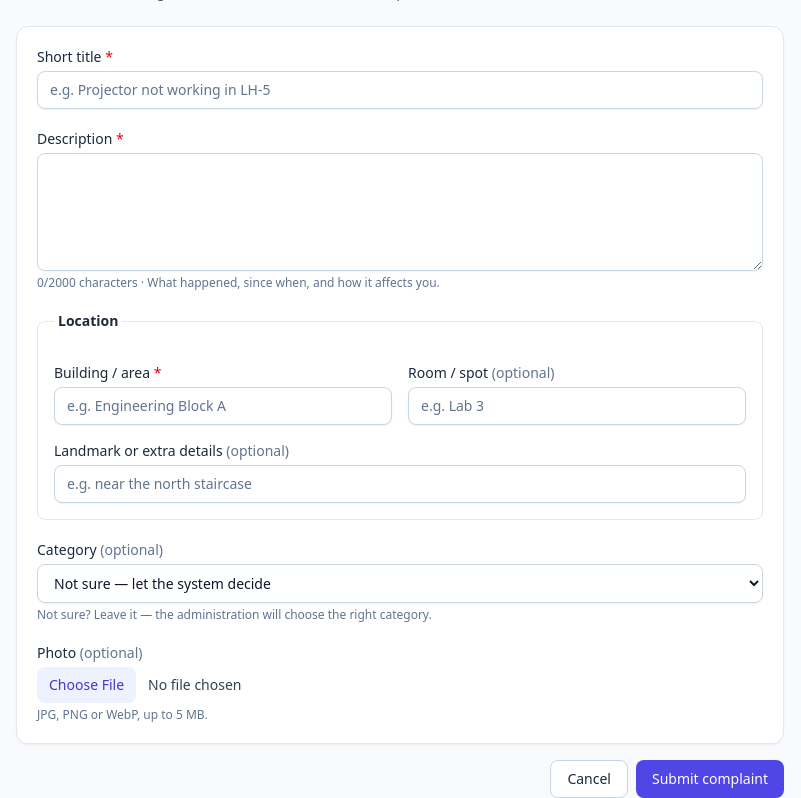
Test case: NewComplaintPage › shows field errors and sends nothing when the form is empty
(page scrolled)
Click the button "Submit complaint" at (710, 779), box [636,760,784,797]
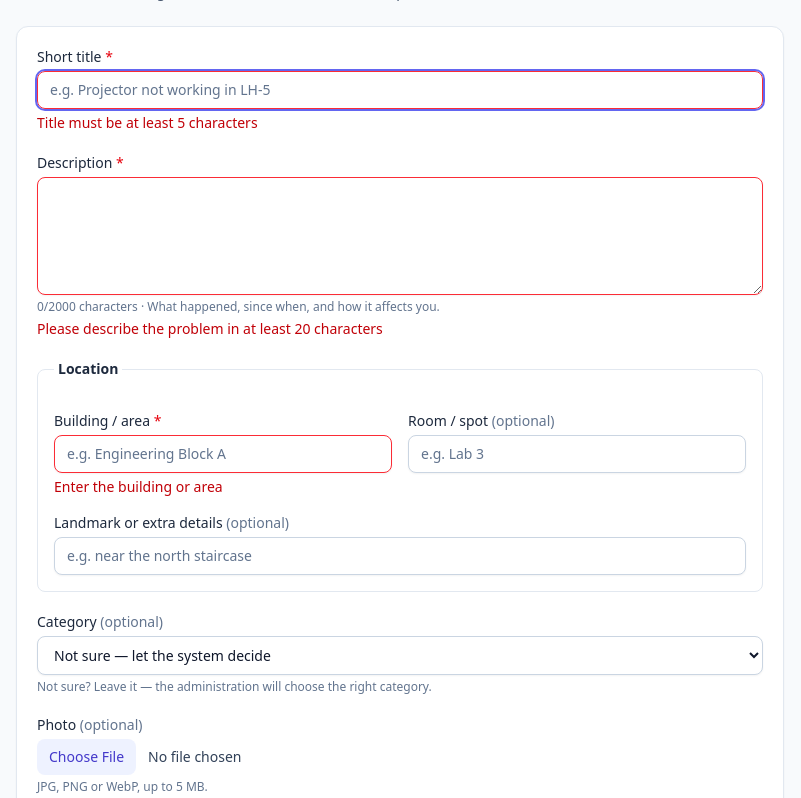
Result: the text "Title must be at least 5 characters" is shown at [37,113,258,132]
Result: the text "Please describe the problem in at least 20 characters" is shown at [37,319,383,338]
Result: the text "Enter the building or area" is shown at [54,477,223,496]
